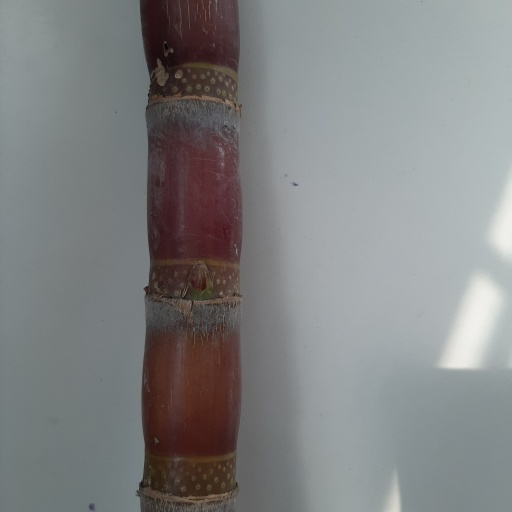Bud: (187, 262, 215, 294)
